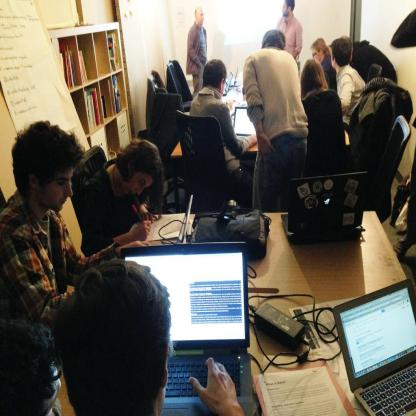board: (121, 242, 253, 416), (331, 278, 416, 416), (281, 172, 366, 243), (234, 106, 256, 146), (176, 196, 193, 244), (223, 72, 233, 96)
